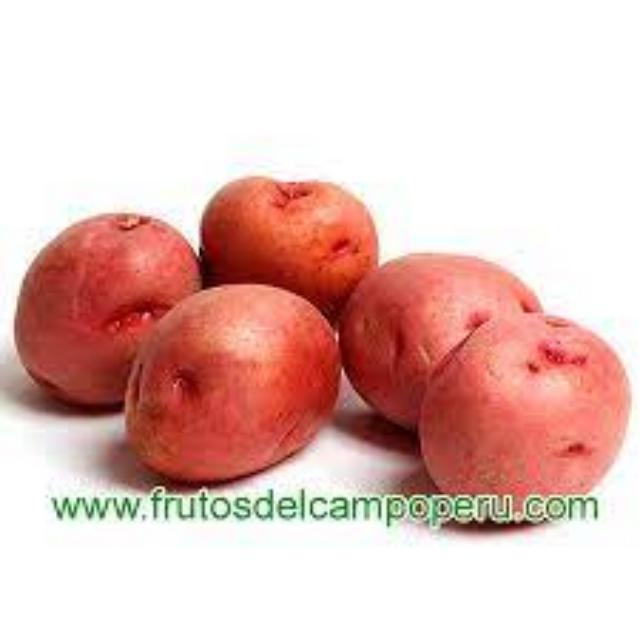Defected potato: (411, 308, 635, 534), (116, 279, 350, 487), (336, 248, 554, 440), (12, 210, 205, 420), (194, 170, 380, 344)
